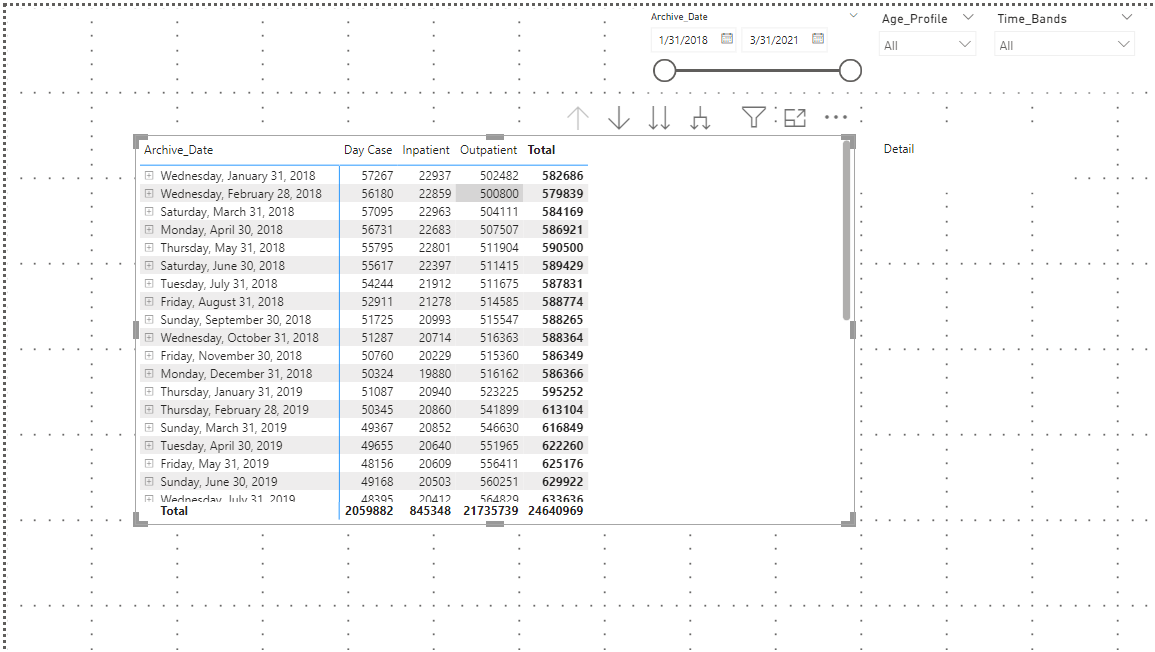

The dashboard page shown, as its layout file describes it:
{"tool":"powerbi","page":{"name":"Detail","canvas":[1280,720],"ordinal":1},"visuals":[{"type":"slicer","fields":{"Values":["All_Data.Archive_Date"]},"box":[704,0,256,96],"z":0},{"type":"slicer","fields":{"Values":["All_Data.Age_Profile"]},"box":[960,0,128,96],"z":1000},{"type":"slicer","fields":{"Values":["All_Data.Time_Bands"]},"box":[1088,0,176,96],"z":2000},{"type":"textbox","box":[0,0,384,64],"z":3000},{"type":"pivotTable","fields":{"Rows":["All_Data.Archive_Date","All_Data.Age_Profile","All_Data.Time_Bands","All_Data.Speciality_Name"],"Columns":["All_Data.Case_Type"],"Values":["Sum(All_Data.Total)"]},"box":[0,96,1280,624],"z":4000}]}

Visuals, with their boxes on the page's 1280x720 design canvas (x1, y1, x2, y2). These are canvas units, not pixel positions in the 1155x652 screenshot, which may show the page scaled, cropped or inside an application window:
slicer - All_Data.Archive_Date: (704,0,960,96)
slicer - All_Data.Age_Profile: (960,0,1088,96)
slicer - All_Data.Time_Bands: (1088,0,1264,96)
textbox: (0,0,384,64)
pivotTable - All_Data.Archive_Date x All_Data.Age_Profile: (0,96,1280,720)
